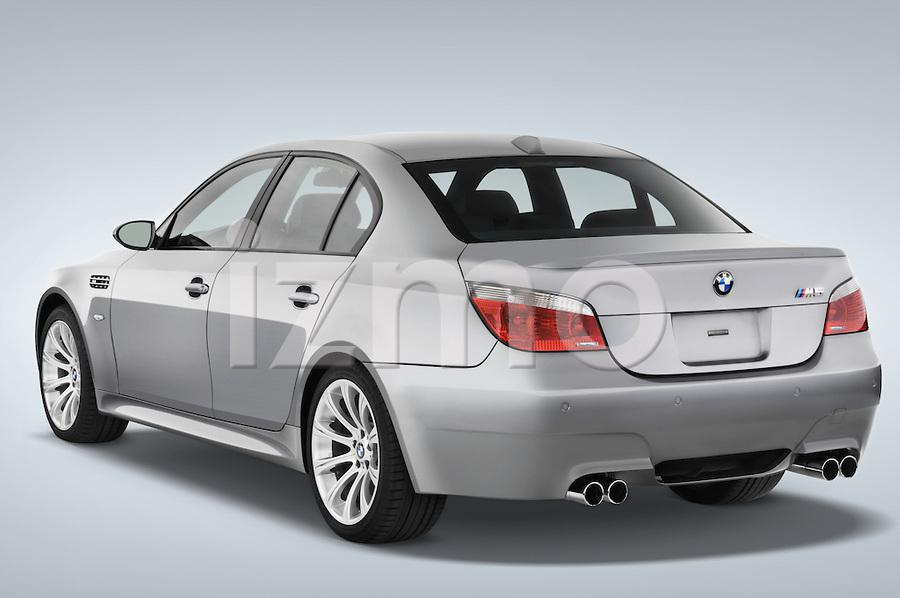Car: (8, 91, 899, 574)
